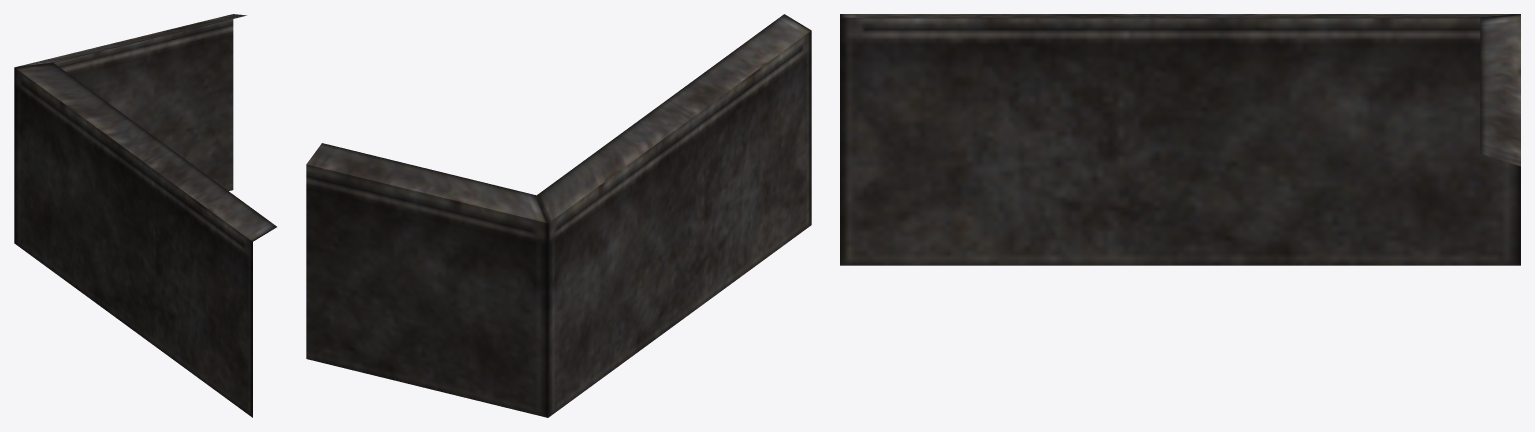
The model's file is convex_skinny_foot_lab_2_6_special_right.dae.
The picture shows the model from 3 angles, left to right: view 1: azimuth 30°, elevation 25°; view 2: azimuth 150°, elevation 25°; view 3: azimuth 270°, elevation 25°; orthographic projection. The views are drawn at different scales.
Parts seen in each view (by area): view 1: lab_convex_skinny; view 2: lab_convex_skinny; view 3: lab_convex_skinny.
Part boxes in pixels (bbox=[...]): lab_convex_skinny: bbox=[14, 14, 276, 417]; lab_convex_skinny: bbox=[306, 14, 811, 417]; lab_convex_skinny: bbox=[840, 14, 1520, 265].
Size of the model in its own units: 0.5635 by 0.4553 by 1.06.
